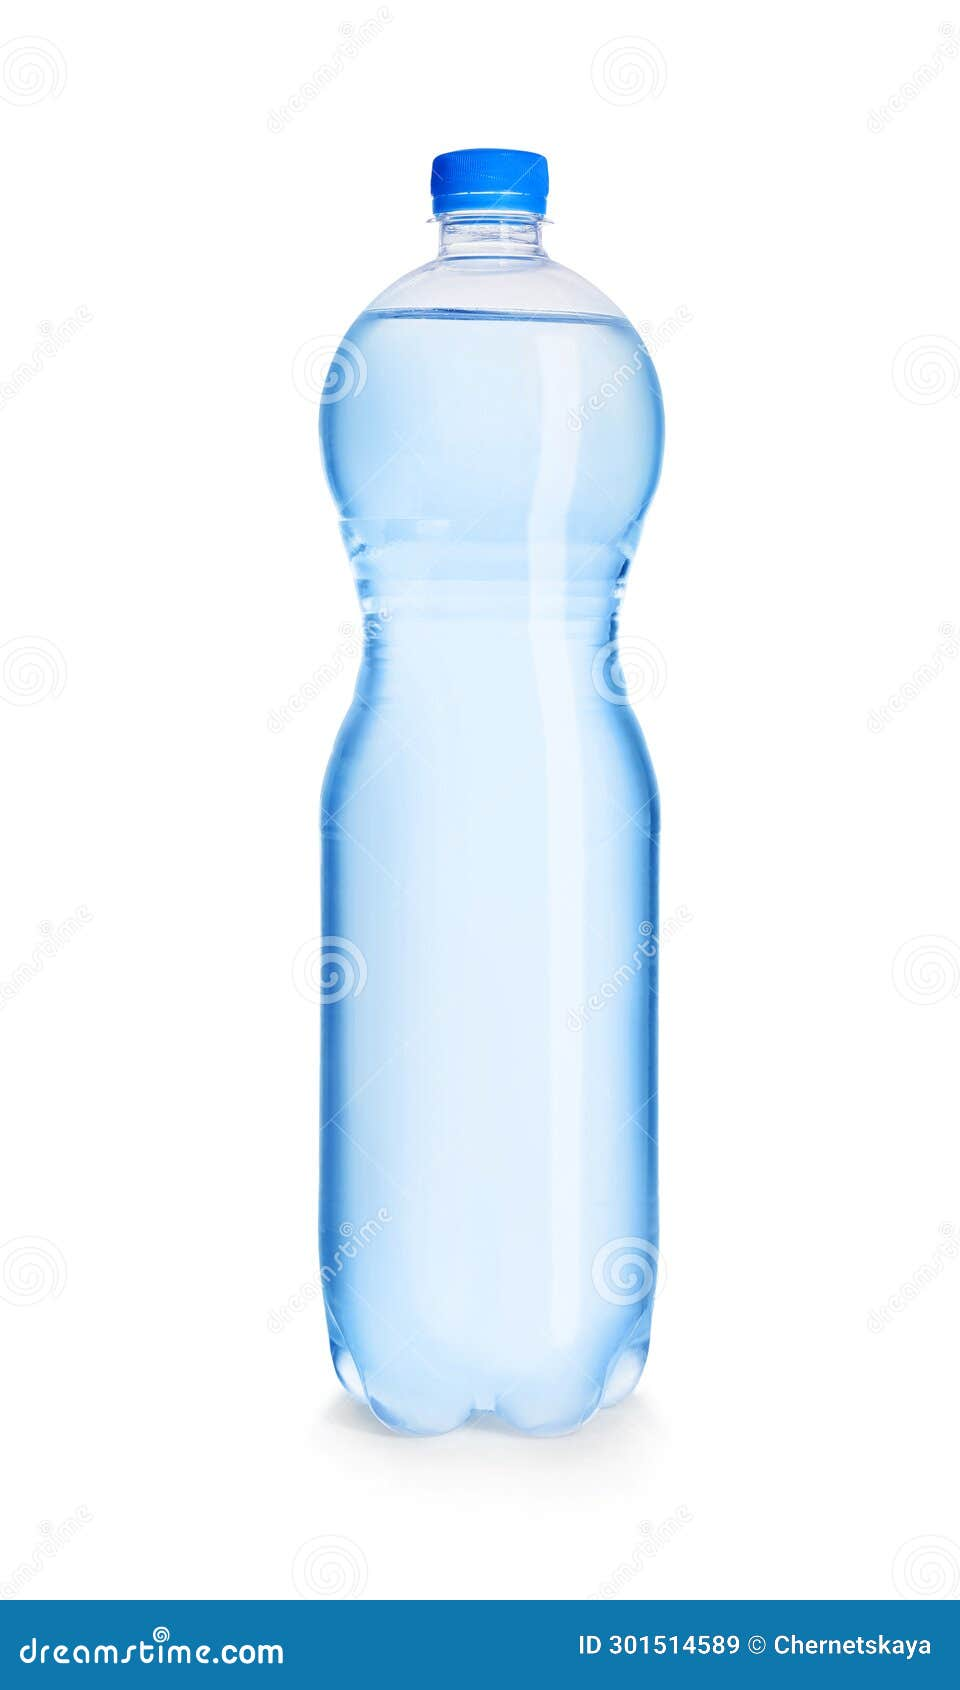bottle: (269, 109, 670, 1469)
